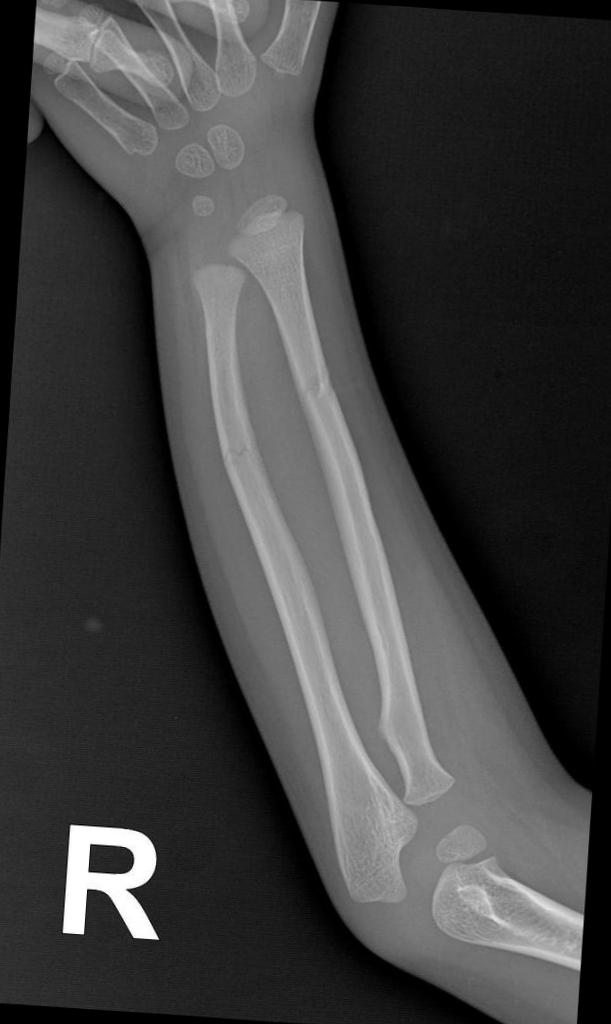line: (293, 361, 340, 414), (220, 435, 260, 475)
